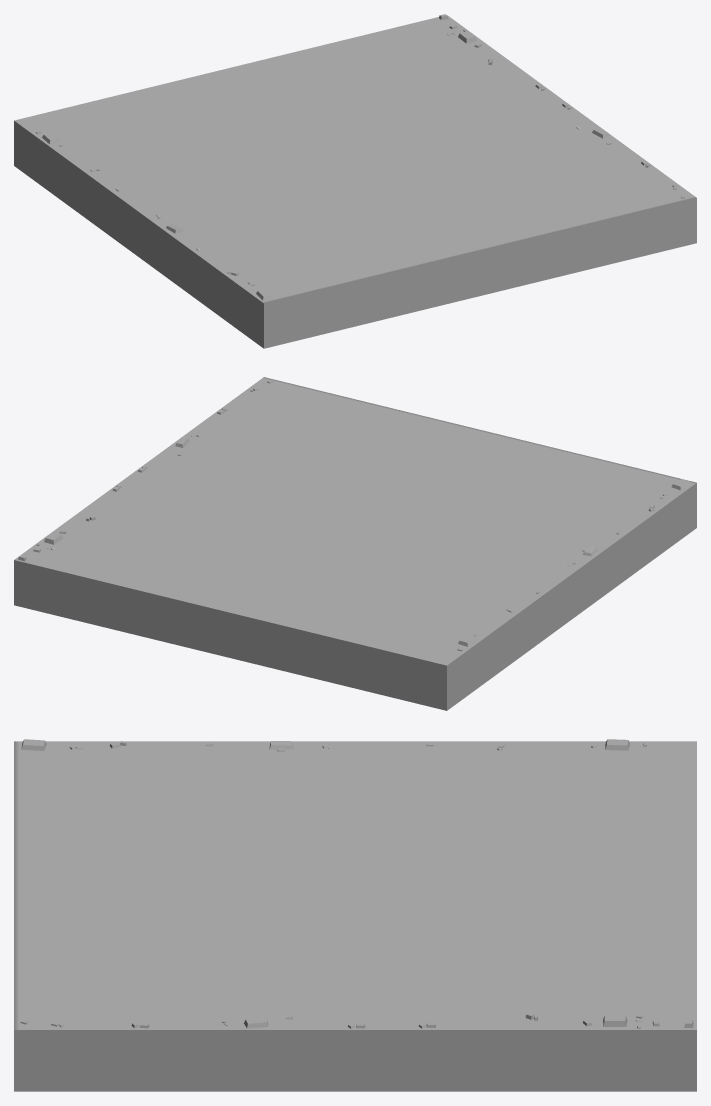
File: bz_ground_02.fbx
3 renders of one model, top to bottom at view 1: azimuth 30°, elevation 25°; view 2: azimuth 150°, elevation 25°; view 3: azimuth 270°, elevation 25°, orthographic. The views are drawn at different scales.
Visible parts, largest first — view 1: bz_ground_01, bz_ground_trash_01; view 2: bz_ground_01, bz_ground_trash_01; view 3: bz_ground_01, bz_ground_trash_01.
Part boxes in pixels (x1,y1,x2,y2): bz_ground_01: (14,15,696,348); bz_ground_trash_01: (36,14,684,300); bz_ground_01: (14,377,696,710); bz_ground_trash_01: (18,380,691,651); bz_ground_01: (14,741,696,1091); bz_ground_trash_01: (20,739,693,1029).
Bounding box in the file's own units: 10 × 1.09 × 10.
